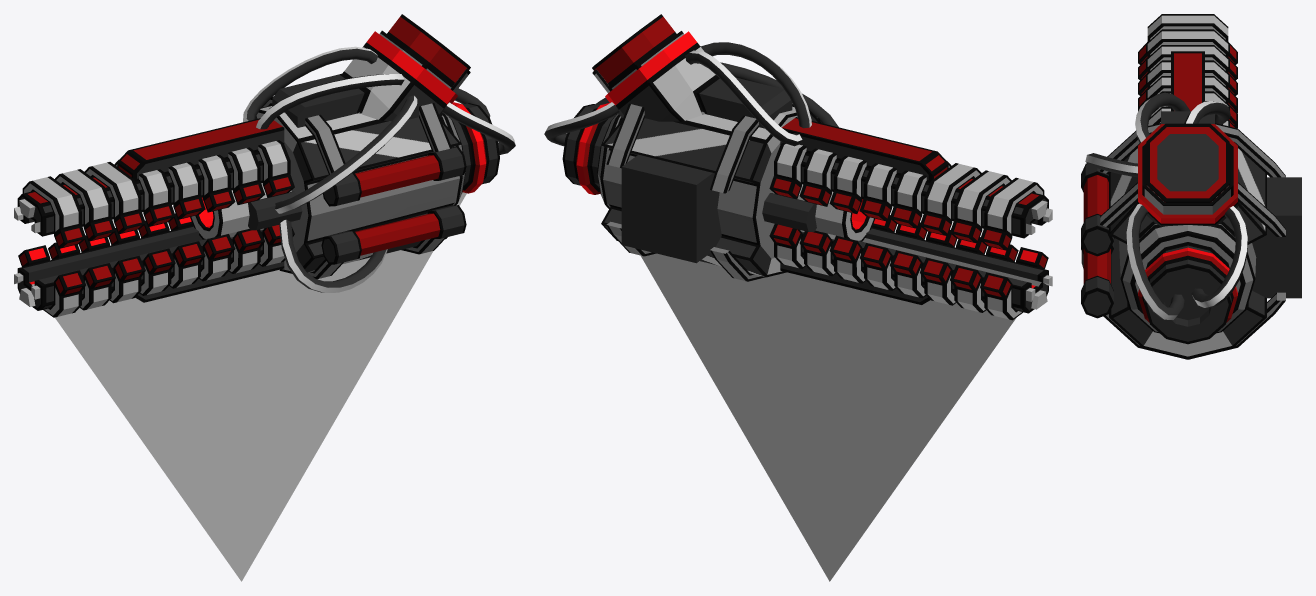
File: PulseRifleHolorgram.fbx
3 views of the same model, side by side, from view 1: azimuth 30°, elevation 25°; view 2: azimuth 150°, elevation 25°; view 3: azimuth 270°, elevation 25° (orthographic). The views are drawn at different scales.
Visible parts, largest first — view 1: Pulse Rifle Main, Pulse Rifle Main.001; view 2: Pulse Rifle Main, Pulse Rifle Main.001; view 3: Pulse Rifle Main.
Part boxes in pixels (x1,y1,x2,y2): Pulse Rifle Main: [14, 14, 515, 317]; Pulse Rifle Main.001: [32, 192, 466, 581]; Pulse Rifle Main: [544, 14, 1052, 320]; Pulse Rifle Main.001: [641, 238, 1041, 581]; Pulse Rifle Main: [1081, 14, 1301, 359].
Bounding box in the file's own units: 0.9693 × 2.57 × 2.66.
